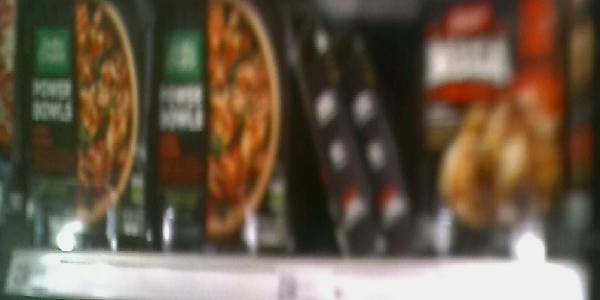pizza1: (423, 1, 570, 261), (156, 1, 306, 254), (18, 2, 155, 249)
